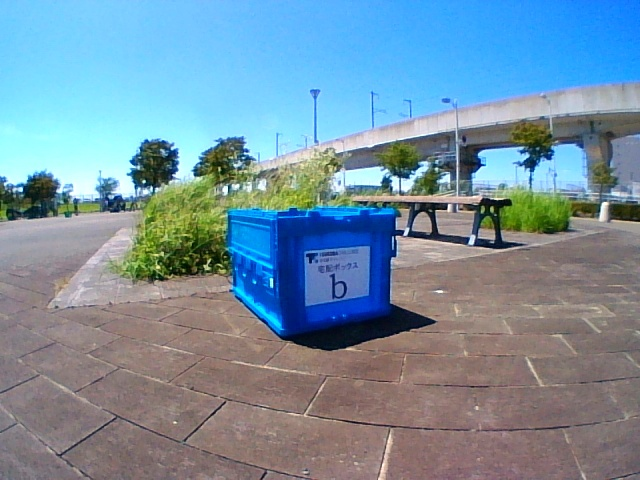blue_box: (253, 210, 387, 313)
tag_b: (321, 266, 353, 299)
